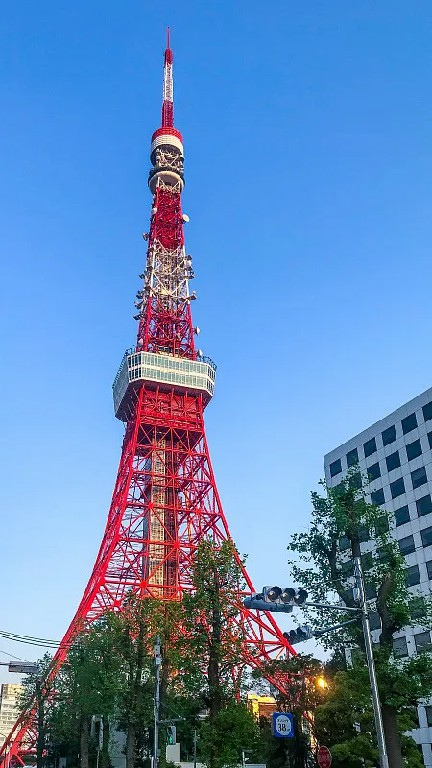Tokyo: (5, 24, 320, 763)
